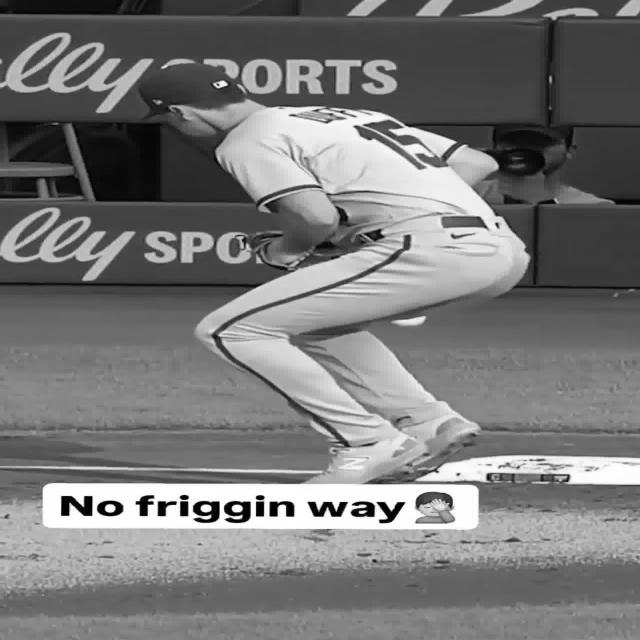base: (418, 455, 640, 485)
baseball: (391, 316, 427, 328)
baseball_glove: (233, 231, 347, 271)
shoe: (373, 414, 480, 482), (305, 434, 427, 484)
